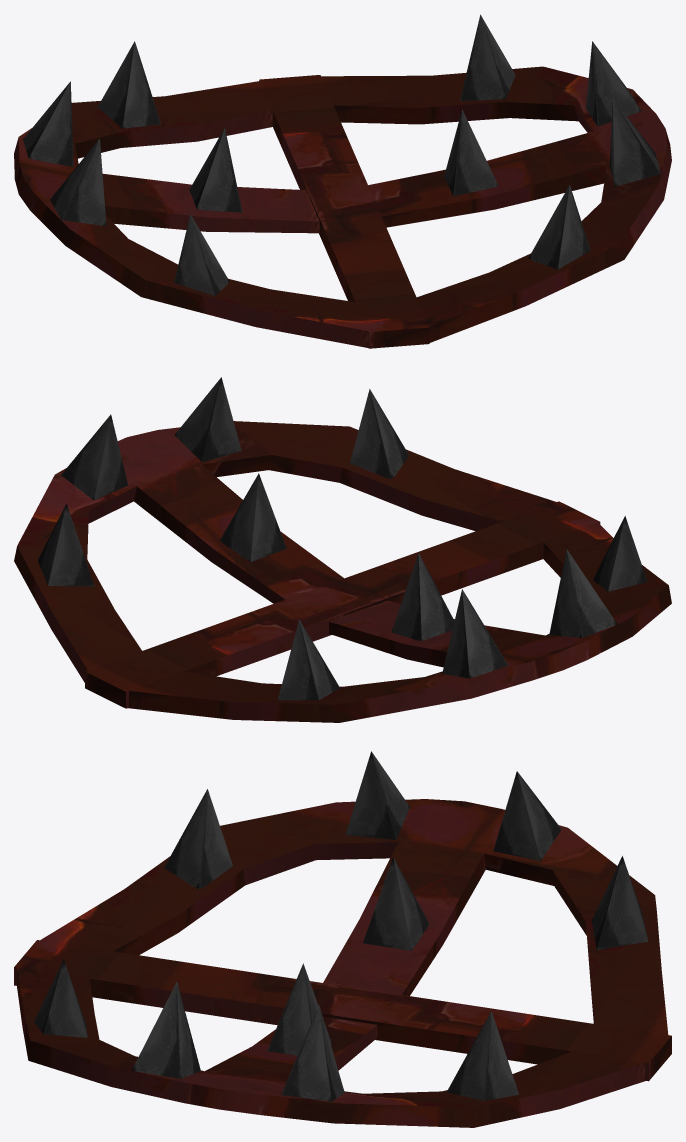
Rendered from 火夹子.FBX.
The picture shows the model from 3 angles, top to bottom: view 1: azimuth 30°, elevation 25°; view 2: azimuth 150°, elevation 25°; view 3: azimuth 270°, elevation 25°; orthographic projection. The views are drawn at different scales.
Parts seen in each view (by area): view 1: Tube003, Tube002, Box001, Hedra001, Hedra004, Hedra008, Hedra010, Hedra011, Hedra002, Hedra005, Hedra012, Hedra003 (+1 smaller); view 2: Tube003, Tube002, Box001, Hedra004, Hedra012, Hedra011, Hedra002, Hedra009, Hedra005, Hedra010, Hedra001, Hedra008 (+1 smaller); view 3: Tube002, Tube003, Box001, Hedra003, Hedra011, Hedra002, Hedra005, Hedra008, Hedra004, Hedra009, Hedra001, Hedra012 (+1 smaller).
Part boxes in pixels (box(x1,y1,x2,y2)): Tube003: box(321, 66, 671, 342); Tube002: box(14, 81, 367, 347); Box001: box(259, 75, 429, 348); Hedra001: box(97, 41, 160, 128); Hedra004: box(50, 138, 106, 225); Hedra008: box(460, 14, 515, 100); Hedra010: box(528, 184, 590, 269); Hedra011: box(609, 99, 660, 186); Hedra002: box(23, 81, 73, 166); Hedra005: box(189, 127, 242, 212); Hedra012: box(444, 109, 498, 196); Hedra003: box(174, 214, 229, 295); Tube003: box(14, 421, 556, 682); Tube002: box(128, 522, 671, 722); Box001: box(85, 501, 600, 708); Hedra004: box(549, 549, 617, 637); Hedra012: box(220, 473, 286, 561); Hedra011: box(174, 377, 241, 462); Hedra002: box(442, 589, 508, 678); Hedra009: box(61, 414, 127, 500); Hedra005: box(391, 553, 454, 640); Hedra010: box(350, 389, 409, 478); Hedra001: box(278, 619, 339, 700); Hedra008: box(37, 503, 94, 586); Tube002: box(40, 799, 668, 1034); Tube003: box(17, 967, 645, 1127); Box001: box(14, 940, 671, 1081); Hedra003: box(164, 789, 232, 888); Hedra011: box(132, 981, 200, 1078); Hedra002: box(493, 771, 561, 860); Hedra005: box(363, 857, 429, 950); Hedra008: box(447, 1011, 518, 1100); Hedra004: box(345, 751, 409, 839); Hedra009: box(281, 1005, 344, 1101); Hedra001: box(591, 856, 648, 950); Hedra012: box(267, 963, 332, 1055).
Size of the model in its own units: 92.31 by 20.1 by 83.25.
